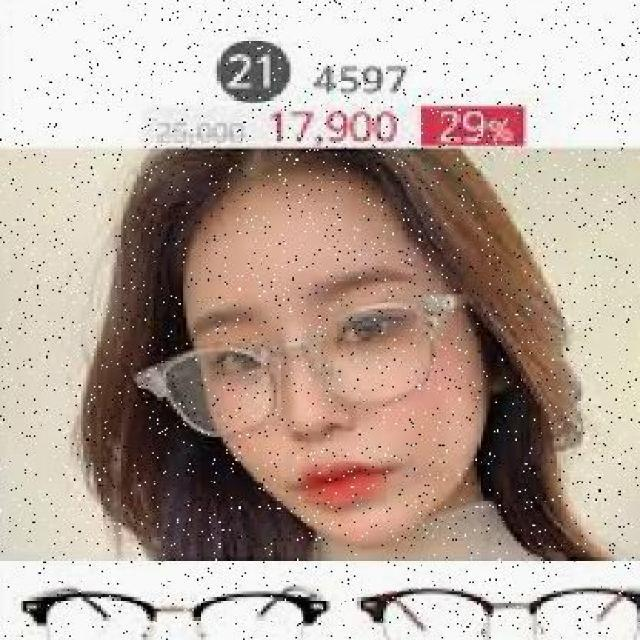glasses: (150, 280, 456, 434)
